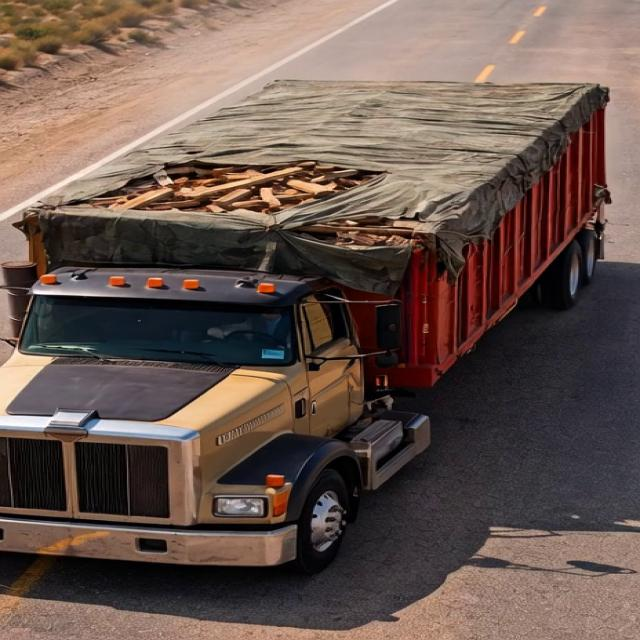Box: (12, 76, 612, 248)
Truck: (0, 47, 621, 570)
